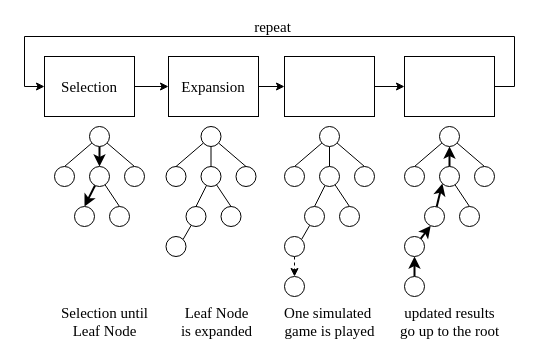
The diagram is 540 pixels wide and 363 high, and some of its shapes have lost their labels. Each missing label, with the centre of its shape:
Backup: point (449, 86)
Simulation: point (329, 86)
